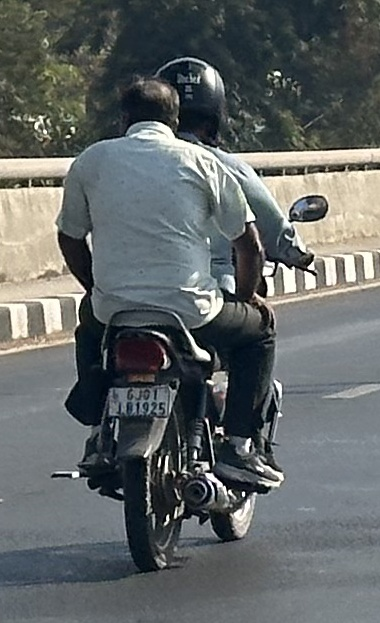BikeWithRider: (43, 49, 335, 580)
Helmet: (146, 50, 235, 149)
NoHelmet: (107, 71, 187, 145)
